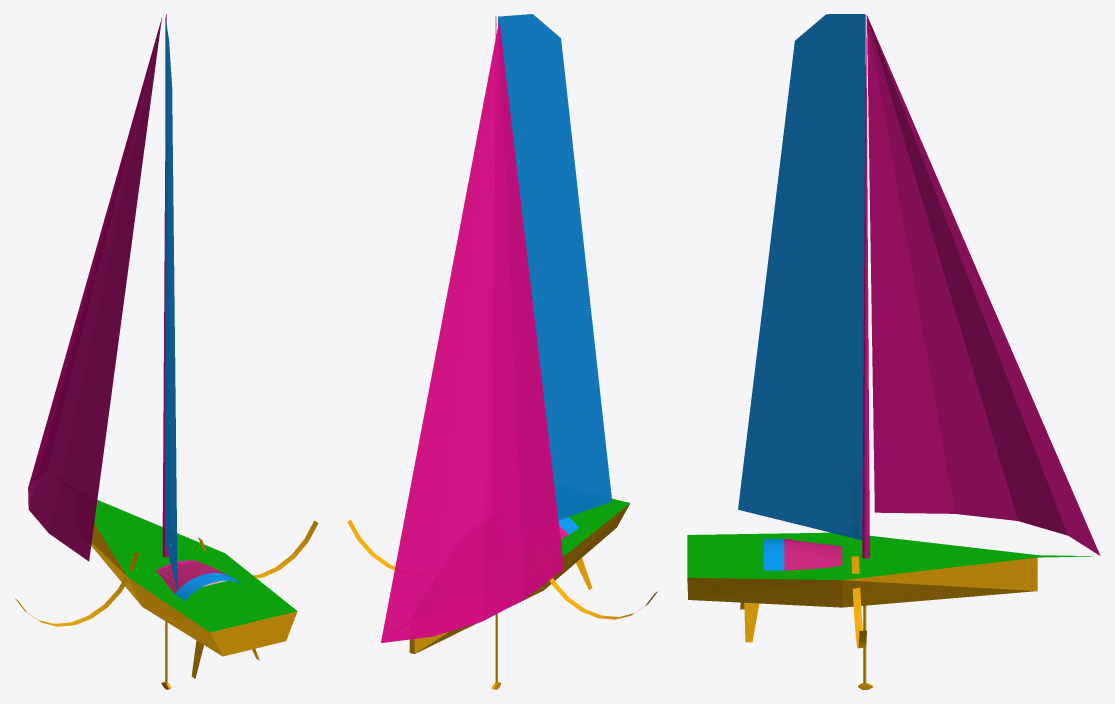
The model's file is IMOCA_GENNAKER_TRIBORD.dae.
3 renders of one model, left to right at view 1: azimuth 30°, elevation 25°; view 2: azimuth 150°, elevation 25°; view 3: azimuth 270°, elevation 25°, orthographic.
Parts seen in each view (by area): view 1: SketchUp (×9); view 2: SketchUp (×4); view 3: SketchUp (×8).
Part boxes in pixels (x1,y1,x2,y2): SketchUp (×9): [15, 14, 318, 656]; SketchUp (×4): [381, 14, 629, 653]; SketchUp (×8): [687, 14, 1100, 648].
Bounding box in the file's own units: 71166 × 83592 × 150544.
